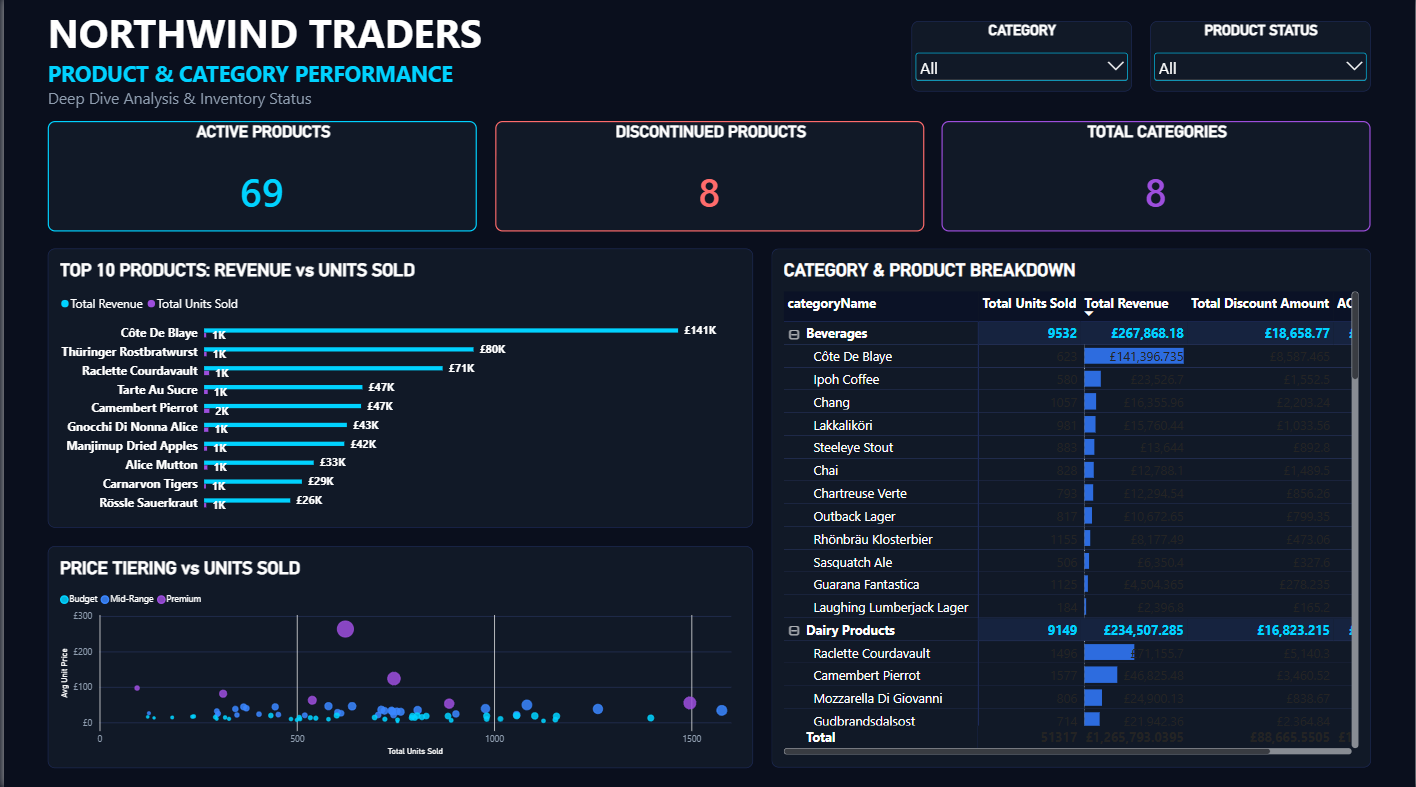

The dashboard page shown, as its layout file describes it:
{"tool":"powerbi","page":{"name":"Product & Category Performance","canvas":[1920,1080],"ordinal":1},"visuals":[{"type":"cardVisual","title":"ACTIVE PRODUCTS","fields":{"Data":["_Measures.Active Products"]},"box":[60,170,584,150],"z":0},{"type":"cardVisual","title":"DISCONTINUED PRODUCTS","fields":{"Data":["_Measures.Discontinued Products"]},"box":[668,170,584,150],"z":1000},{"type":"cardVisual","title":"TOTAL CATEGORIES","fields":{"Data":["Count(categories.categoryID)"]},"box":[1276,170,584,150],"z":2000},{"type":"clusteredBarChart","title":"TOP 10 PRODUCTS: REVENUE vs UNITS SOLD","fields":{"Category":["products.productName"],"Y":["_Measures.Total Revenue","_Measures.Total Units Sold"]},"box":[60,344,960,380],"z":3000},{"type":"scatterChart","title":"PRICE TIERING vs UNITS SOLD","fields":{"Category":["products.productName"],"Series":["products.Price Tier"],"Size":["_Measures.Total Revenue"],"X":["_Measures.Total Units Sold"],"Y":["Avg(products.unitPrice)"]},"box":[60,748,960,302],"z":4000},{"type":"textbox","box":[60,14,820,142],"z":5000},{"type":"pivotTable","title":"CATEGORY & PRODUCT BREAKDOWN","fields":{"Rows":["categories.categoryName","products.productName"],"Values":["_Measures.Total Units Sold","_Measures.Total Revenue","_Measures.Total Discount Amount","_Measures.AOV"]},"box":[1044,344,816,706],"z":6000},{"type":"slicer","title":"CATEGORY","fields":{"Values":["categories.categoryName"]},"box":[1236,34,300,96],"z":7000},{"type":"slicer","title":"PRODUCT STATUS","fields":{"Values":["products.Product Status"]},"box":[1560,34,300,96],"z":8000}]}

Visuals, with their boxes in screenshot pixels (x1, y1, x2, y2), scaled from the page's 1920x1080 canvas onto the 1416x787 screenshot:
"ACTIVE PRODUCTS" cardVisual: region(44, 124, 475, 233)
"DISCONTINUED PRODUCTS" cardVisual: region(493, 124, 923, 233)
"TOTAL CATEGORIES" cardVisual: region(941, 124, 1372, 233)
"TOP 10 PRODUCTS: REVENUE vs UNITS SOLD" clusteredBarChart: region(44, 251, 752, 528)
"PRICE TIERING vs UNITS SOLD" scatterChart: region(44, 545, 752, 765)
textbox: region(44, 10, 649, 114)
"CATEGORY & PRODUCT BREAKDOWN" pivotTable: region(770, 251, 1372, 765)
"CATEGORY" slicer: region(912, 25, 1133, 95)
"PRODUCT STATUS" slicer: region(1150, 25, 1372, 95)
